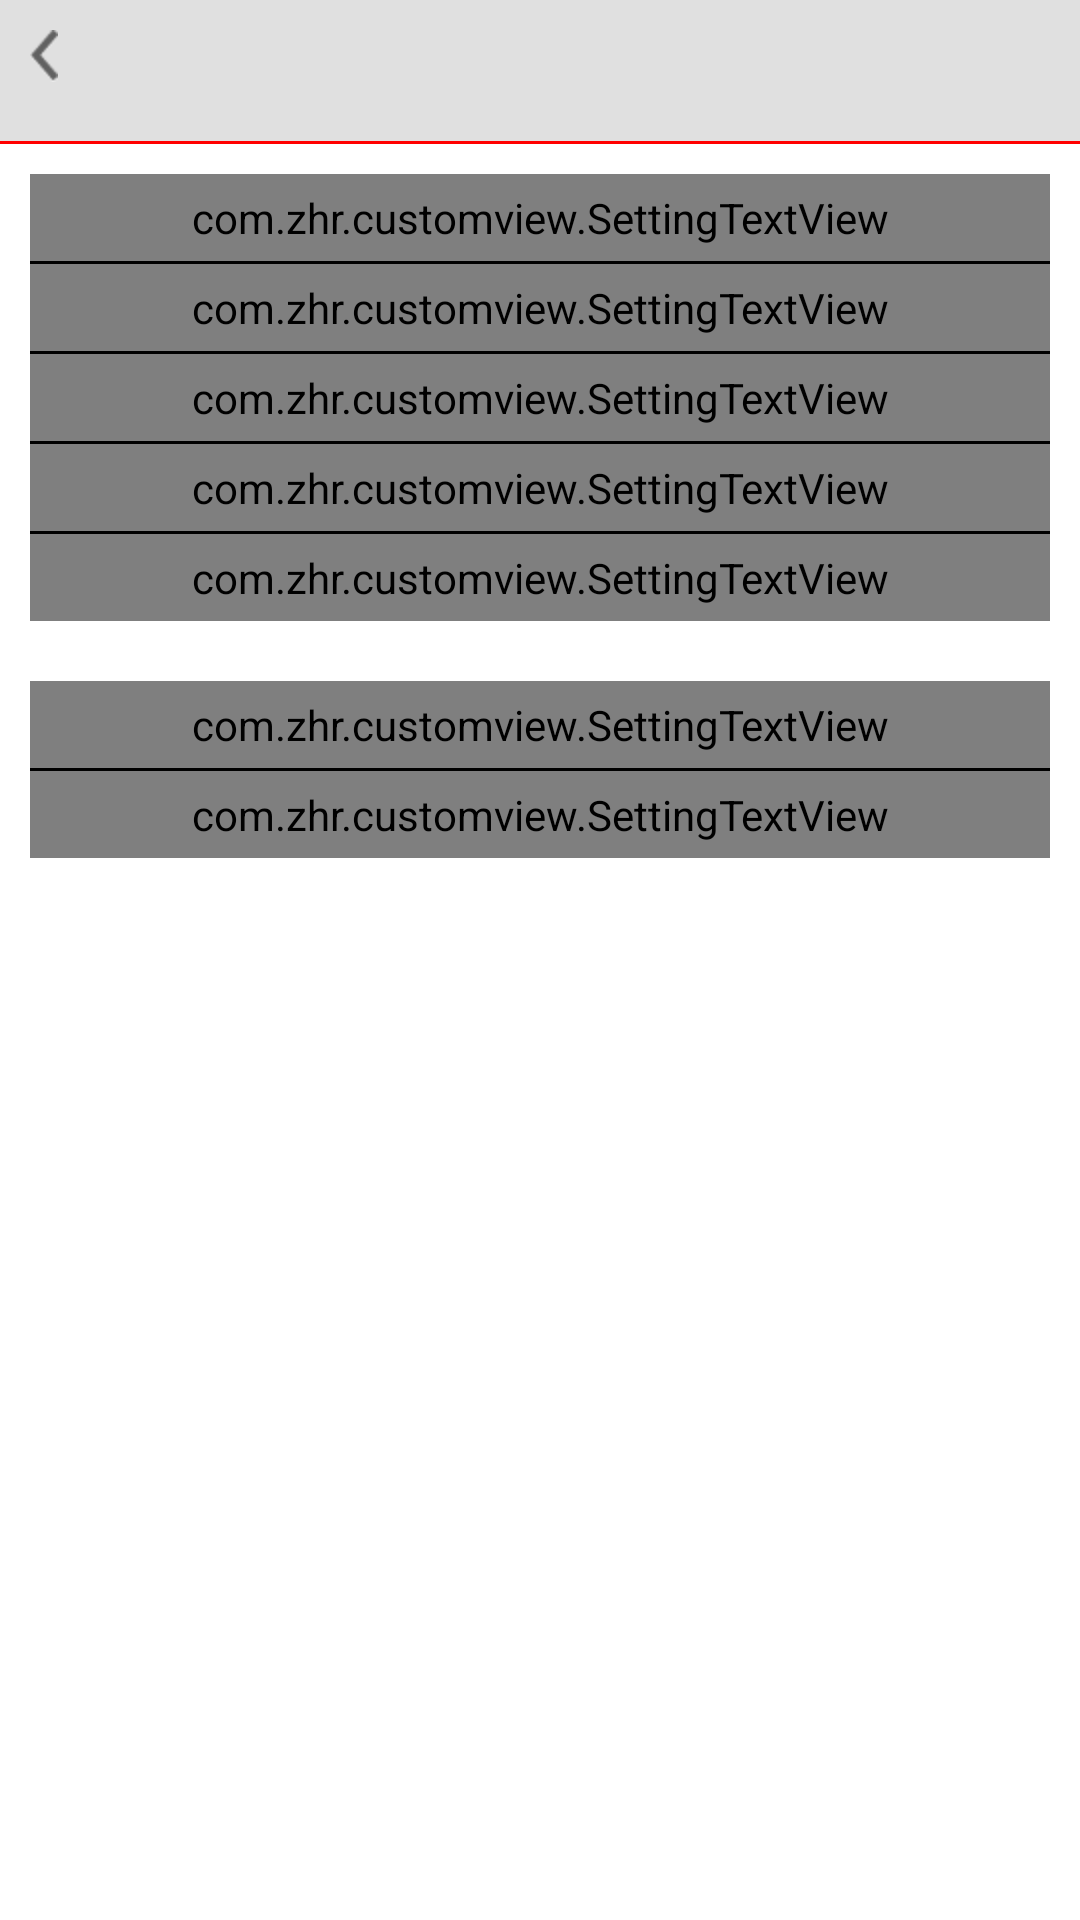

Named icons in this screenshot (1080px×1920px) and their centers, (x,y):
back: (44,55)
